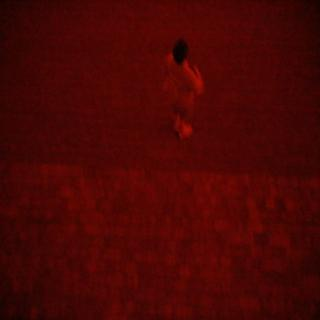person: (157, 32, 216, 149)
